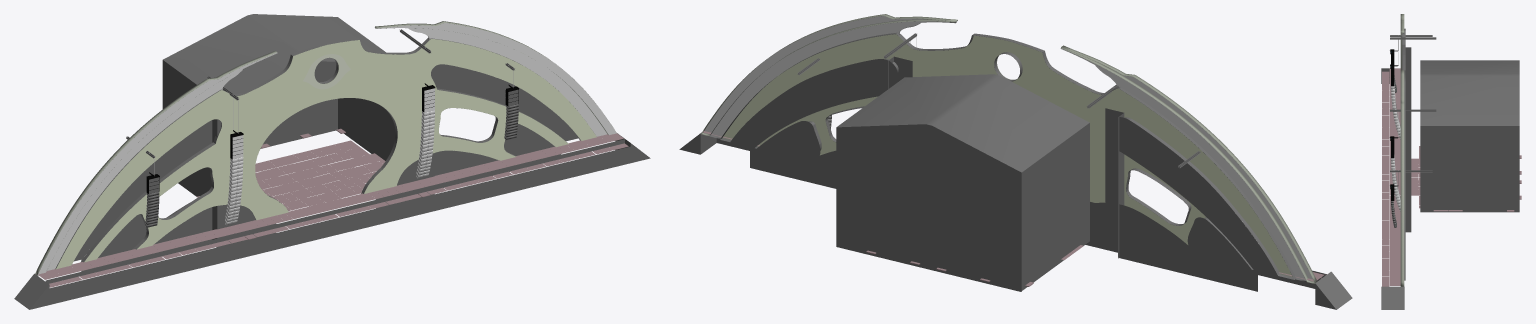
The model's file is deco.fbx.
3 views of the same model, side by side, from view 1: azimuth 30°, elevation 25°; view 2: azimuth 150°, elevation 25°; view 3: azimuth 270°, elevation 25° (orthographic). The views are drawn at different scales.
Parts seen in each view (by area): view 1: STAGE_FRNT_COVER, FABRIC_BLACK, ROOF, LAY_EVENT_DECK_2072_1036_2, LAY_EVENT_DECK_2072_1036, STAGE_DEPT_DECOR, BLACK_PRINT, BLACK_PRINT_L, STAGE_TOP_L, STAGE_TOP_R, STAGE_TOP_DEPT_DECOR_V2_L, SHIELD (+1 smaller); view 2: ROOF, FABRIC_BLACK, STAGE_FRNT_COVER, STAGE_DEPT_DECOR, BLACK_PRINT, BLACK_PRINT_L, STAGE_TOP_DEPT_DECOR_V2_L, STAGE_TOP_R, STAGE_TOP_L, STAGE_TOP_DEPT_DECOR_V2_R; view 3: ROOF, LAY_EVENT_DECK_2072_1036_2, FABRIC_BLACK, LAY_EVENT_DECK_2072_1036, STAGE_TOP_DEPT_DECOR_V2_R, STAGE_DEPT_DECOR, Extrude_2, Extrude, STAGE_TOP_DEPT_DECOR_V2_L, LAY_EVENT_DECK_1036_1036.
Part boxes in pixels (x1,y1,x2,y2): STAGE_FRNT_COVER: (56, 38, 596, 269); FABRIC_BLACK: (14, 64, 650, 309); ROOF: (162, 14, 395, 196); LAY_EVENT_DECK_2072_1036_2: (268, 133, 628, 216); LAY_EVENT_DECK_2072_1036: (38, 160, 338, 287); STAGE_DEPT_DECOR: (55, 37, 580, 268); BLACK_PRINT: (375, 28, 606, 136); BLACK_PRINT_L: (47, 69, 242, 270); STAGE_TOP_L: (37, 52, 277, 275); STAGE_TOP_R: (377, 23, 616, 134); STAGE_TOP_DEPT_DECOR_V2_L: (35, 51, 276, 275); SHIELD: (303, 54, 350, 89); ROOF: (836, 74, 1089, 291); FABRIC_BLACK: (679, 56, 1352, 309); STAGE_FRNT_COVER: (722, 34, 1292, 276); STAGE_DEPT_DECOR: (720, 32, 1296, 279); BLACK_PRINT: (710, 21, 935, 137); BLACK_PRINT_L: (1096, 64, 1305, 280); STAGE_TOP_DEPT_DECOR_V2_L: (1061, 45, 1317, 283); STAGE_TOP_R: (704, 16, 926, 132); STAGE_TOP_L: (1114, 70, 1312, 279); STAGE_TOP_DEPT_DECOR_V2_R: (701, 14, 957, 136); ROOF: (1420, 60, 1519, 212); LAY_EVENT_DECK_2072_1036_2: (1382, 177, 1462, 286); FABRIC_BLACK: (1381, 47, 1411, 309); LAY_EVENT_DECK_2072_1036: (1382, 68, 1420, 180); STAGE_TOP_DEPT_DECOR_V2_R: (1400, 70, 1404, 286); STAGE_DEPT_DECOR: (1402, 28, 1405, 280); Extrude_2: (1390, 37, 1436, 111); Extrude: (1390, 35, 1432, 172); STAGE_TOP_DEPT_DECOR_V2_L: (1400, 14, 1404, 69); LAY_EVENT_DECK_1036_1036: (1382, 146, 1521, 214).
Size of the model in its own units: 7777 by 2208 by 1978.
